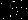person: (9, 1, 16, 14)
